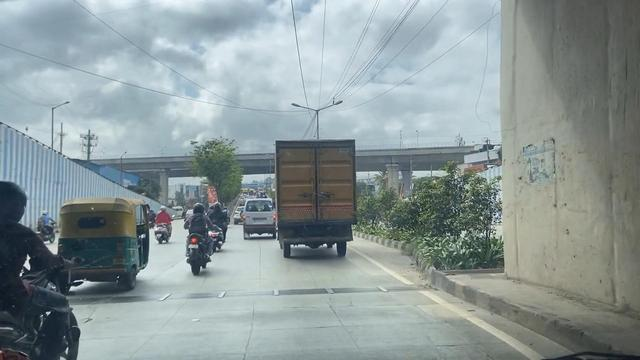HMV: (278, 144, 356, 262)
LMV: (62, 200, 157, 283), (187, 207, 217, 270), (244, 198, 273, 242)
